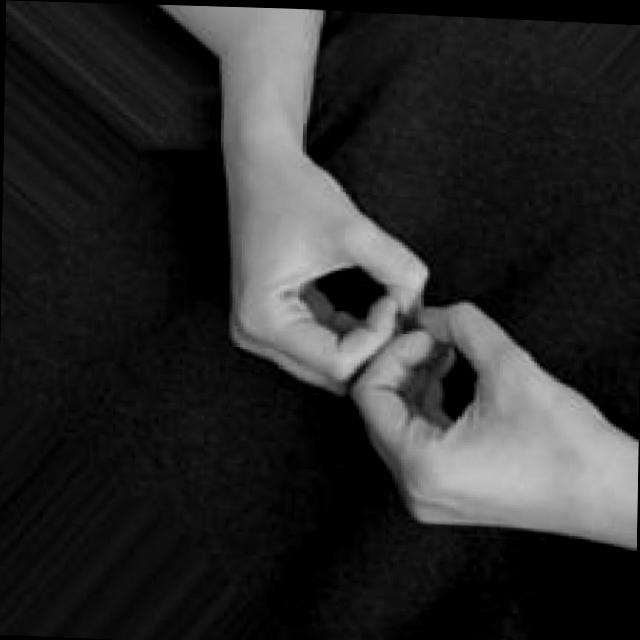B: (221, 148, 640, 553)
